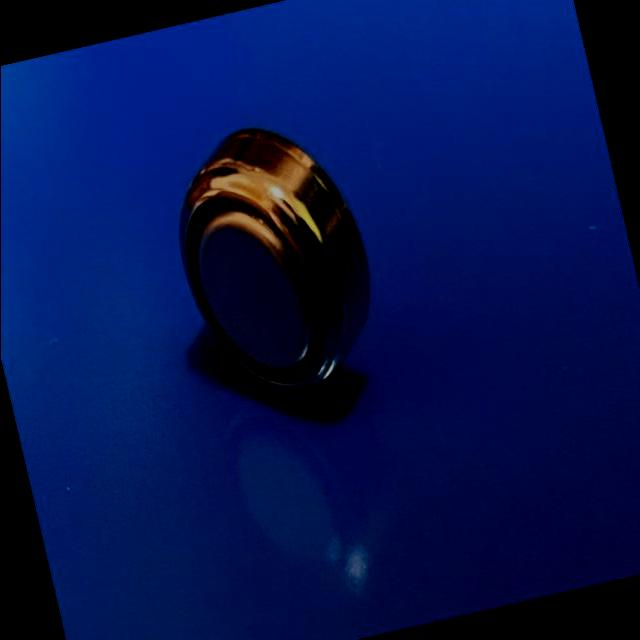COIN: (154, 104, 396, 418)
